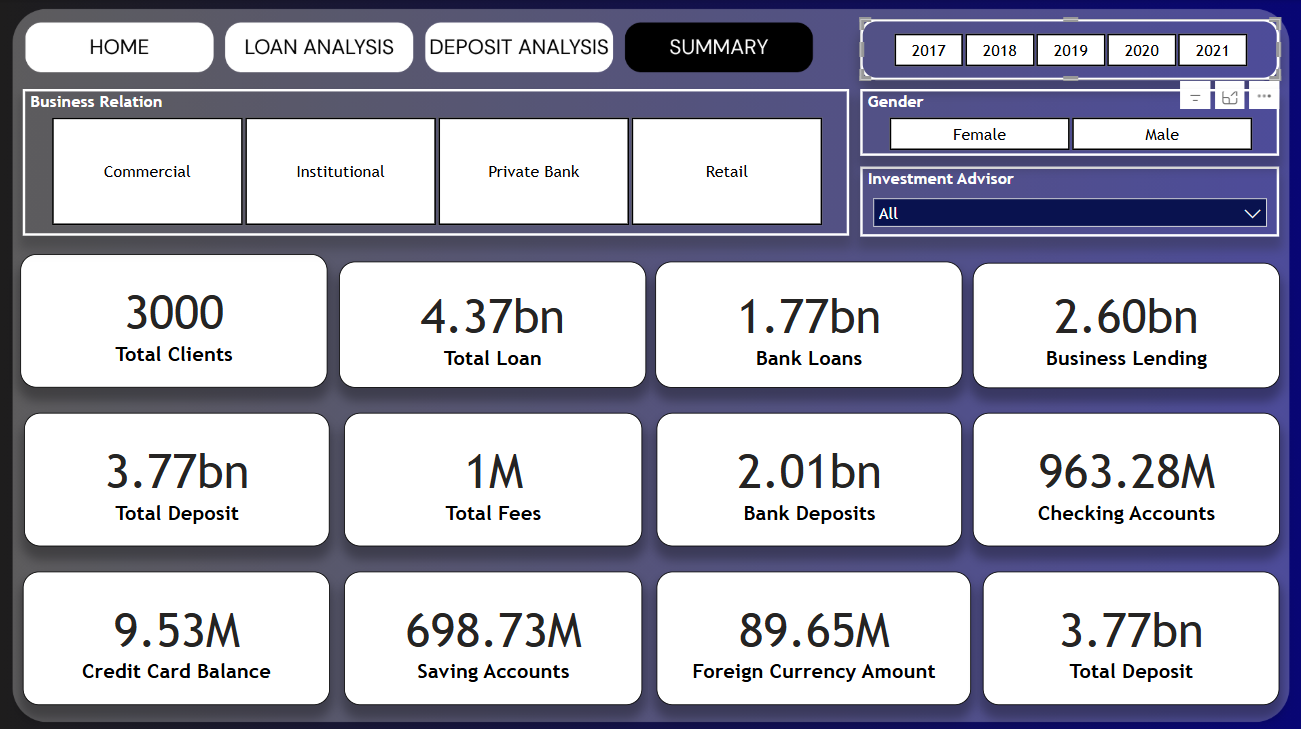

The dashboard page shown, as its layout file describes it:
{"tool":"powerbi","page":{"name":"Summary","canvas":[1280,720],"ordinal":3},"visuals":[{"type":"card","fields":{"Values":["CountNonNull(Banking.Client ID)"]},"box":[21.4,250,301.4,131.4],"z":0},{"type":"card","fields":{"Values":["Measures Table.Total Loan"]},"box":[334.3,257.1,301.4,124.3],"z":1000},{"type":"card","fields":{"Values":["Measures Table.Total Deposit"]},"box":[24.3,405.7,300,131.4],"z":2000},{"type":"card","fields":{"Values":["Sum(Banking.Business Lending)"]},"box":[955.7,258.6,301.4,122.9],"z":3000},{"type":"card","fields":{"Values":["Sum(Banking.Saving Accounts)"]},"box":[338.6,561.4,292.9,131.4],"z":4000},{"type":"card","fields":{"Values":["Sum(Banking.Checking Accounts)"]},"box":[955.7,405.7,301.4,131.4],"z":5000},{"type":"card","fields":{"Values":["Sum(Banking.Credit Card Balance)"]},"box":[22.9,561.4,301.4,131.4],"z":6000},{"type":"card","fields":{"Values":["Sum(Banking.Bank Loans)"]},"box":[644.3,257.1,301.4,124.3],"z":7000},{"type":"card","fields":{"Values":["Sum(Banking.Fee Structure)"]},"box":[338.6,405.7,292.9,131.4],"z":8000},{"type":"card","fields":{"Values":["Sum(Banking.Bank Deposits)"]},"box":[645.7,405.7,300,131.4],"z":9000},{"type":"card","fields":{"Values":["Sum(Banking.Foreign Currency Account)"]},"box":[645.7,561.4,308.6,131.4],"z":10000},{"type":"card","fields":{"Values":["Measures Table.Total Deposit"]},"box":[965.7,561.4,291.4,131.4],"z":11000},{"type":"slicer","fields":{"Values":["Banking.Year of Joining"]},"box":[845.7,20,411.4,60],"z":12000},{"type":"slicer","title":"Investment Advisor","fields":{"Values":["Banking.IAId"]},"box":[845.7,164.3,411.4,68.6],"z":13000},{"type":"slicer","title":"Gender","fields":{"Values":["Banking.GenderId"]},"box":[845.7,88.6,411.4,65.7],"z":14000},{"type":"slicer","title":"Business Relation","fields":{"Values":["Banking.BRId"]},"box":[22.9,88.6,811.4,144.3],"z":15000},{"type":"actionButton","box":[24.3,30,181.4,40],"z":16000},{"type":"actionButton","box":[221.4,30,181.4,40],"z":17000},{"type":"actionButton","box":[418.6,30,181.4,40],"z":18000},{"type":"actionButton","box":[614.3,30,181.4,40],"z":19000}]}

Visuals, with their boxes in screenshot pixels (x1, y1, x2, y2), scaled from the page's 1280x720 canvas onto the 1301x729 screenshot:
card - CountNonNull(Banking.Client ID): [22, 253, 328, 386]
card - Measures Table.Total Loan: [340, 260, 646, 386]
card - Measures Table.Total Deposit: [25, 411, 330, 544]
card - Sum(Banking.Business Lending): [971, 262, 1278, 386]
card - Sum(Banking.Saving Accounts): [344, 568, 642, 701]
card - Sum(Banking.Checking Accounts): [971, 411, 1278, 544]
card - Sum(Banking.Credit Card Balance): [23, 568, 330, 701]
card - Sum(Banking.Bank Loans): [655, 260, 961, 386]
card - Sum(Banking.Fee Structure): [344, 411, 642, 544]
card - Sum(Banking.Bank Deposits): [656, 411, 961, 544]
card - Sum(Banking.Foreign Currency Account): [656, 568, 970, 701]
card - Measures Table.Total Deposit: [982, 568, 1278, 701]
slicer - Banking.Year of Joining: [860, 20, 1278, 81]
"Investment Advisor" slicer: [860, 166, 1278, 236]
"Gender" slicer: [860, 90, 1278, 156]
"Business Relation" slicer: [23, 90, 848, 236]
actionButton: [25, 30, 209, 71]
actionButton: [225, 30, 409, 71]
actionButton: [425, 30, 610, 71]
actionButton: [624, 30, 809, 71]
